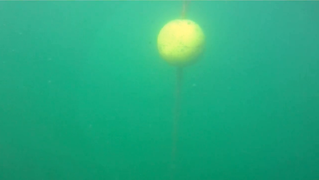buoy: (156, 18, 206, 66)
